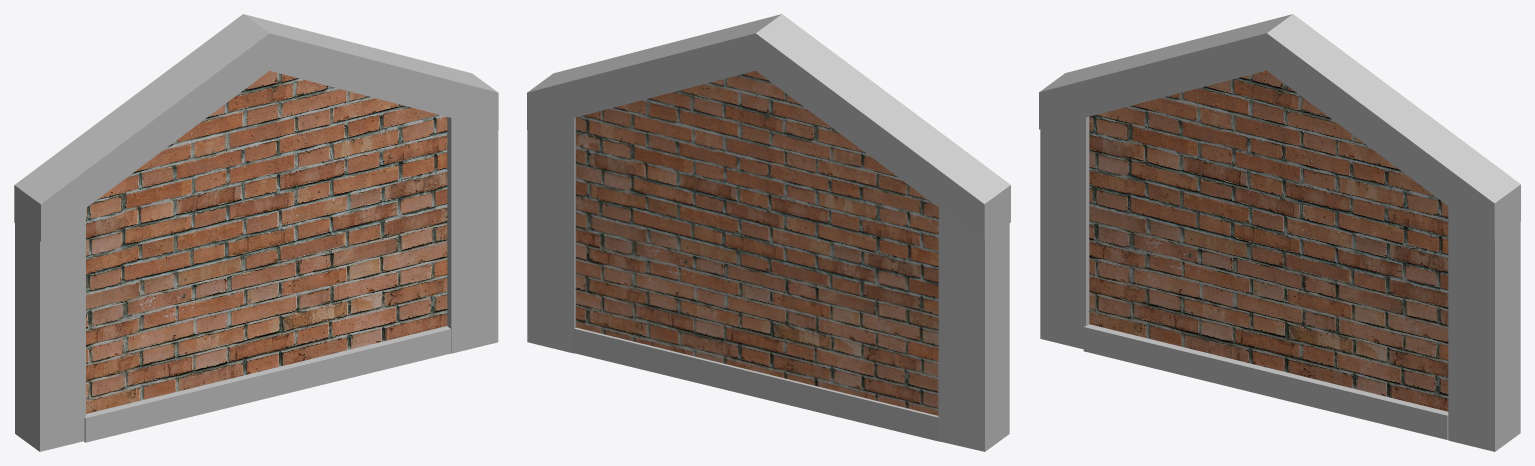
Rendered from HouseHalfBrickWall_LOWCENTER.FBX.
3 views of the same model, side by side, from view 1: azimuth 30°, elevation 25°; view 2: azimuth 150°, elevation 25°; view 3: azimuth 330°, elevation 25° (orthographic).
Visible parts, largest first — view 1: polySurface1; view 2: polySurface1; view 3: polySurface1.
Boxes of the visible parts, bbox=[...] form: polySurface1: bbox=[14, 14, 498, 451]; polySurface1: bbox=[527, 14, 1010, 451]; polySurface1: bbox=[1039, 14, 1520, 451].
Size of the model in its own units: 250 by 191 by 25.
